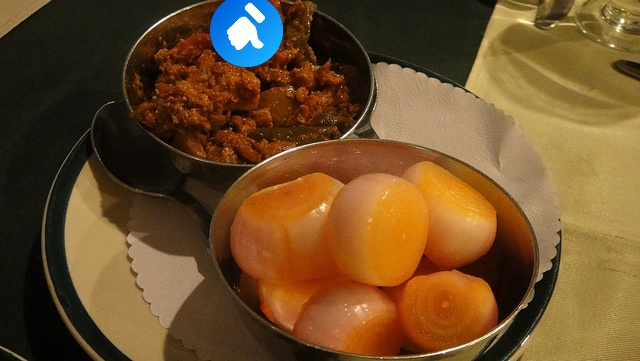like: (210, 0, 283, 67)
